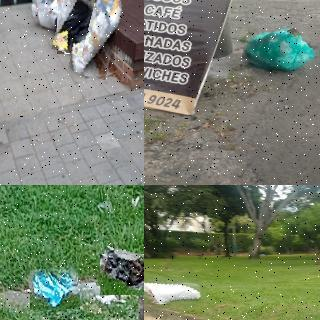Garbage: (242, 19, 320, 74), (72, 0, 122, 78), (98, 249, 144, 299), (29, 267, 80, 311), (144, 273, 206, 308), (53, 0, 91, 55)
